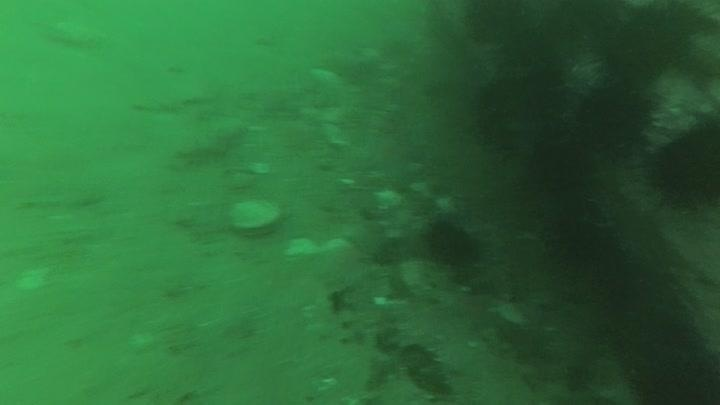echinus: (598, 2, 702, 82), (470, 71, 552, 156), (573, 78, 657, 160), (649, 115, 720, 212), (424, 217, 481, 269)
scallop: (227, 195, 284, 235)
